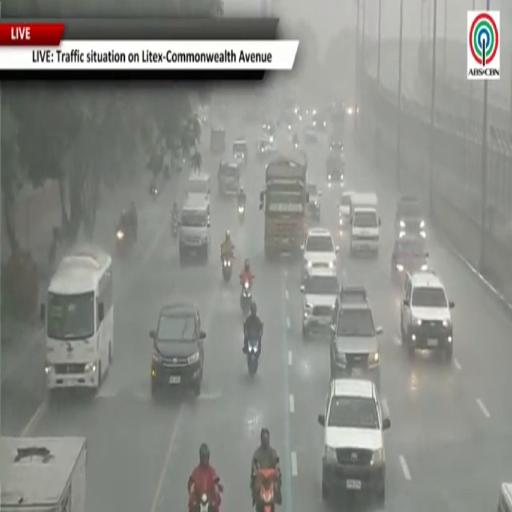bus: (41, 247, 113, 390)
car: (318, 379, 390, 508), (330, 286, 383, 387), (150, 303, 205, 397), (400, 271, 454, 361), (301, 269, 339, 338), (179, 199, 211, 264), (301, 228, 339, 278), (391, 236, 428, 284), (396, 196, 426, 238), (186, 172, 211, 203), (218, 162, 240, 196), (327, 152, 345, 187), (339, 191, 353, 234), (307, 183, 321, 220), (257, 136, 277, 161), (210, 125, 225, 154), (233, 138, 247, 166), (498, 483, 511, 511), (312, 109, 327, 132), (304, 123, 318, 142), (262, 122, 275, 141), (330, 139, 344, 152), (346, 102, 359, 116)
motorcycle: (256, 469, 278, 511), (189, 489, 213, 511), (247, 336, 260, 376), (240, 281, 252, 316), (116, 229, 128, 258), (222, 259, 232, 281), (172, 220, 179, 238), (238, 205, 245, 222), (150, 186, 158, 199)
truck: (0, 437, 86, 511), (260, 152, 308, 258)
